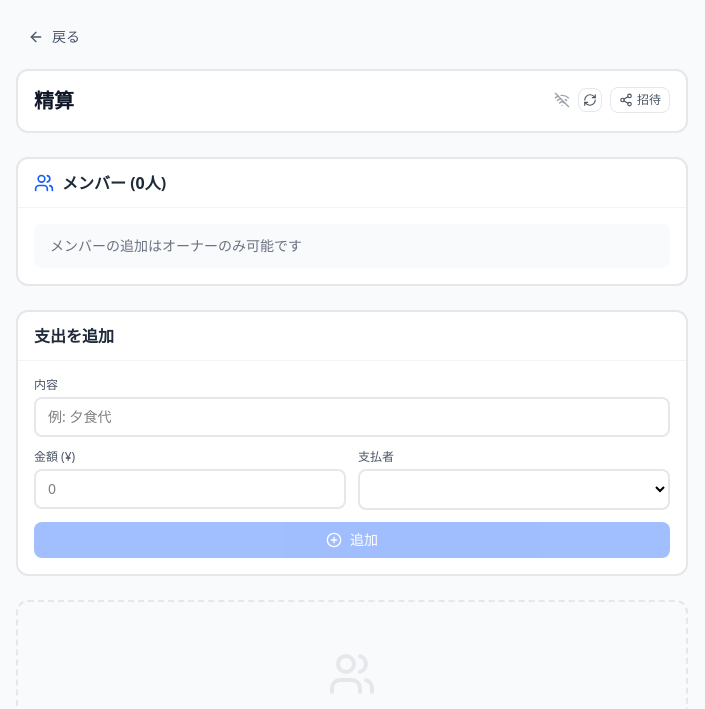
ページルート (+page.svelte) › モード切替: 同期モード → スタンドアロン › 同期モードから戻るボタンでスタンドアロンに戻り history.replaceState が base path で呼ばれる
Expected: the heading "ワリカンさん" is not shown
# 戻るボタンをクリック
Click the button "戻る".
click(54, 37)  # box [16,21,92,53]
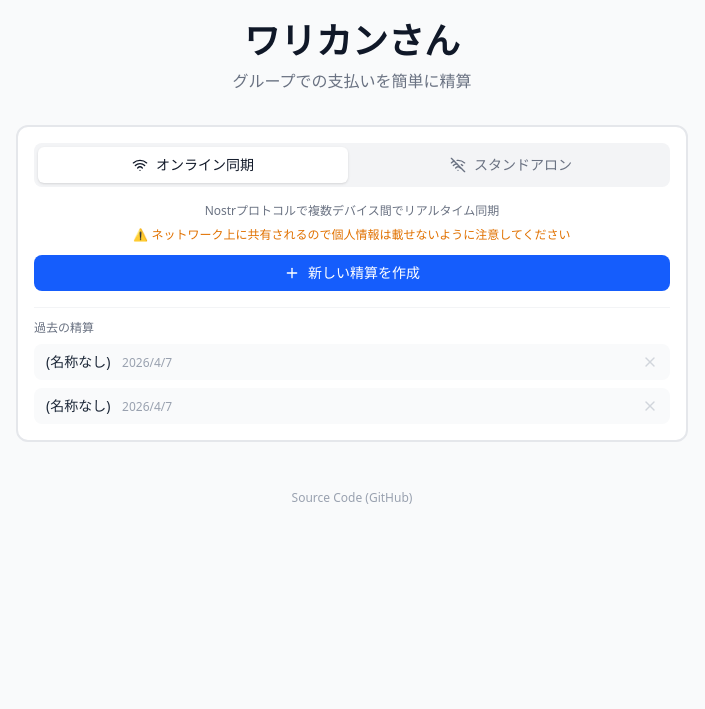
Now the heading "ワリカンさん" is shown, box [244,16,460,65]
